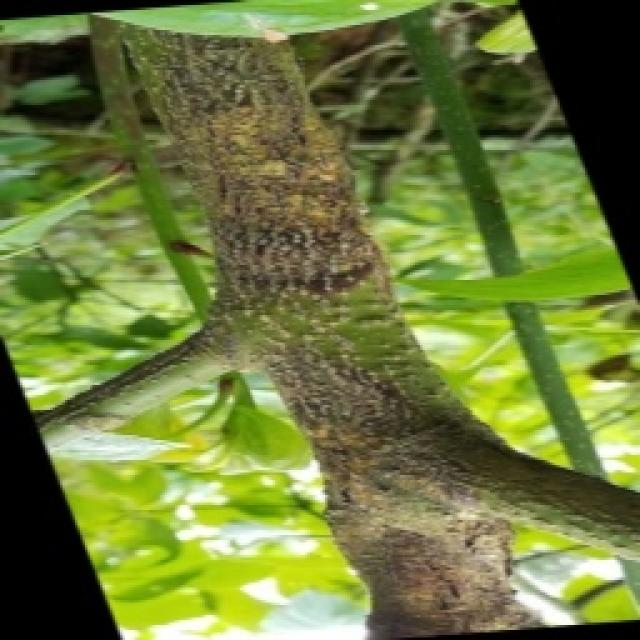Golden_canker: (42, 13, 640, 640)
